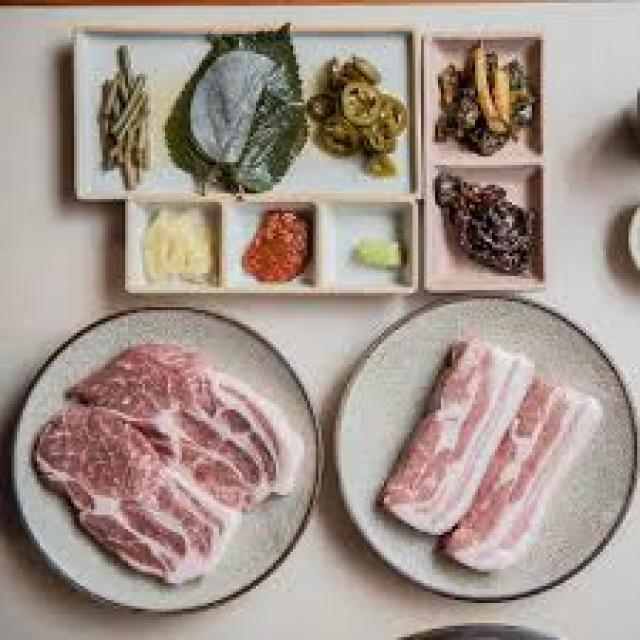pork: (65, 341, 308, 513), (30, 410, 240, 587), (444, 378, 606, 573), (381, 338, 538, 536)
